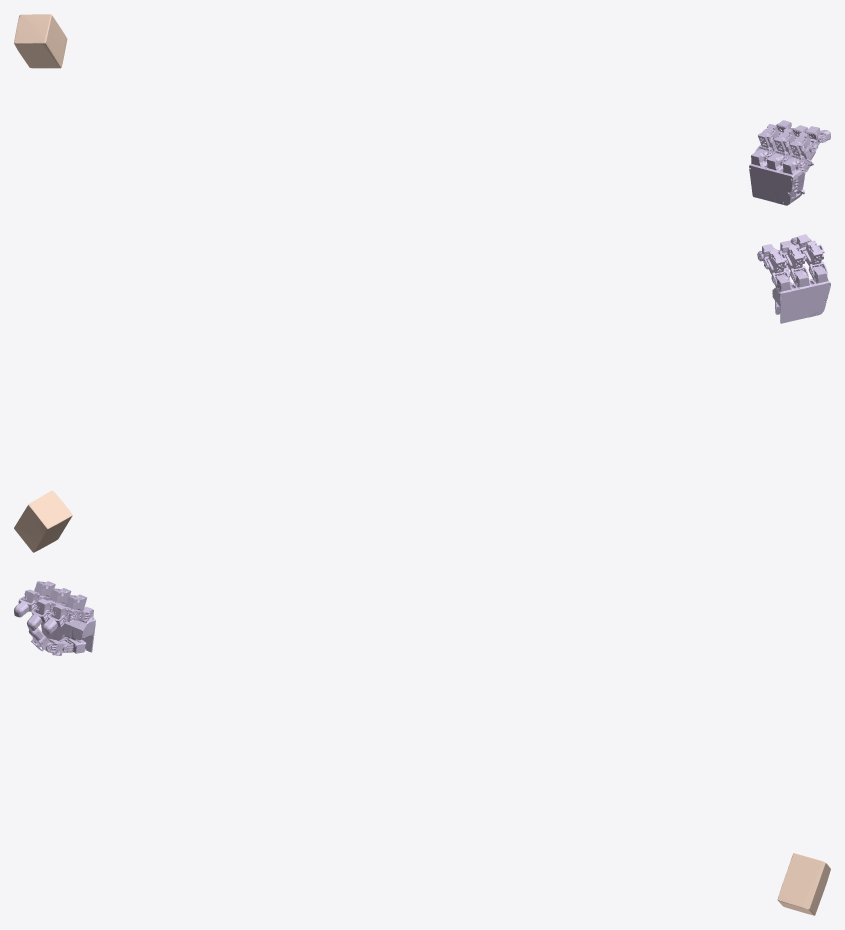
The picture shows the model from 3 angles, top to bottom: view 1: azimuth 90°, elevation 25°; view 2: azimuth 150°, elevation 25°; view 3: azimuth 270°, elevation 25°; orthographic projection. The views are drawn at different scales.
Visible parts, largest first — view 1: LEAP_hand, world; view 2: LEAP_hand, world; view 3: LEAP_hand, world.
Boxes of the visible parts, <box> form: LEAP_hand: <box>749,120,830,205</box>; world: <box>14,14,67,68</box>; LEAP_hand: <box>757,234,830,323</box>; world: <box>14,490,72,552</box>; LEAP_hand: <box>14,581,95,655</box>; world: <box>777,853,830,915</box>.
Size of the model in its own units: 1.16 by 0.3268 by 1.81.
